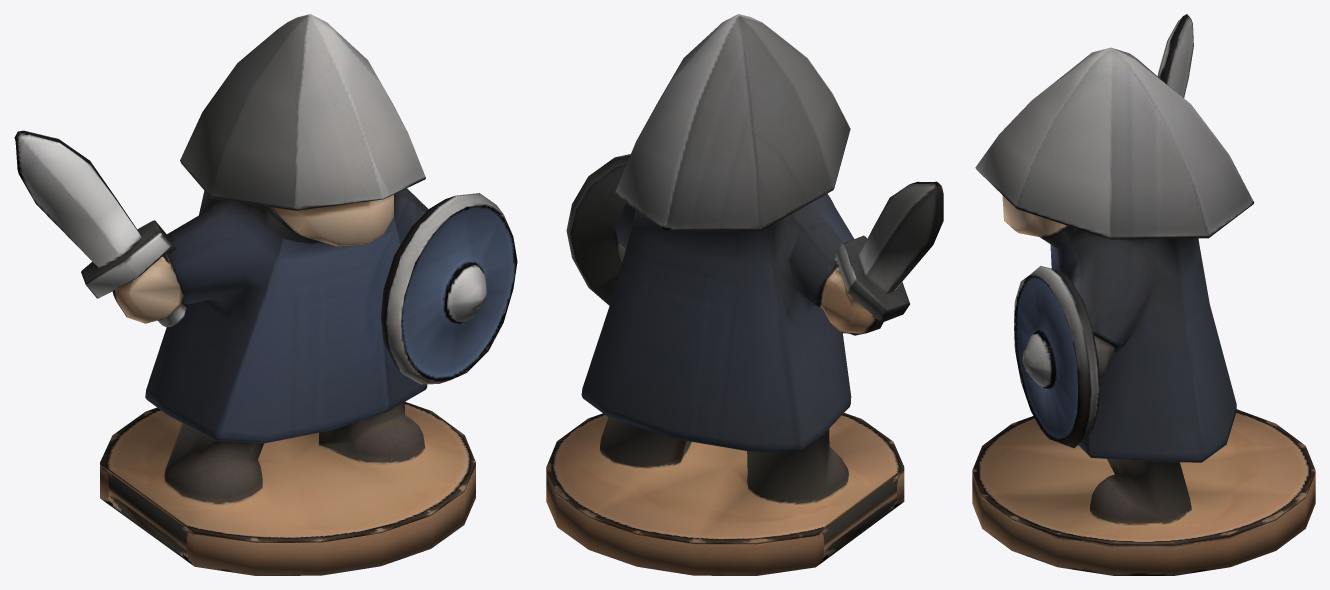
File: tripo-pawn.glb
The picture shows the model from 3 angles, left to right: view 1: azimuth 30°, elevation 25°; view 2: azimuth 150°, elevation 25°; view 3: azimuth 270°, elevation 25°; orthographic projection. The views are drawn at different scales.
Parts seen in each view (by area): view 1: tripo_node_db18f6f7-3cdb-4376-8902-3ba050df91a3; view 2: tripo_node_db18f6f7-3cdb-4376-8902-3ba050df91a3; view 3: tripo_node_db18f6f7-3cdb-4376-8902-3ba050df91a3.
Part boxes in pixels (x1,y1,x2,y2): tripo_node_db18f6f7-3cdb-4376-8902-3ba050df91a3: (14, 14, 517, 575); tripo_node_db18f6f7-3cdb-4376-8902-3ba050df91a3: (546, 14, 943, 575); tripo_node_db18f6f7-3cdb-4376-8902-3ba050df91a3: (972, 14, 1315, 575).
Bounding box in the file's own units: 0.9145 × 0.9756 × 0.6625.
1 material, 1 textured.
